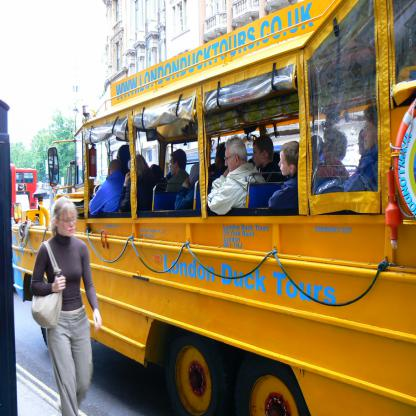Bus: (11, 0, 416, 416), (16, 170, 36, 209)
